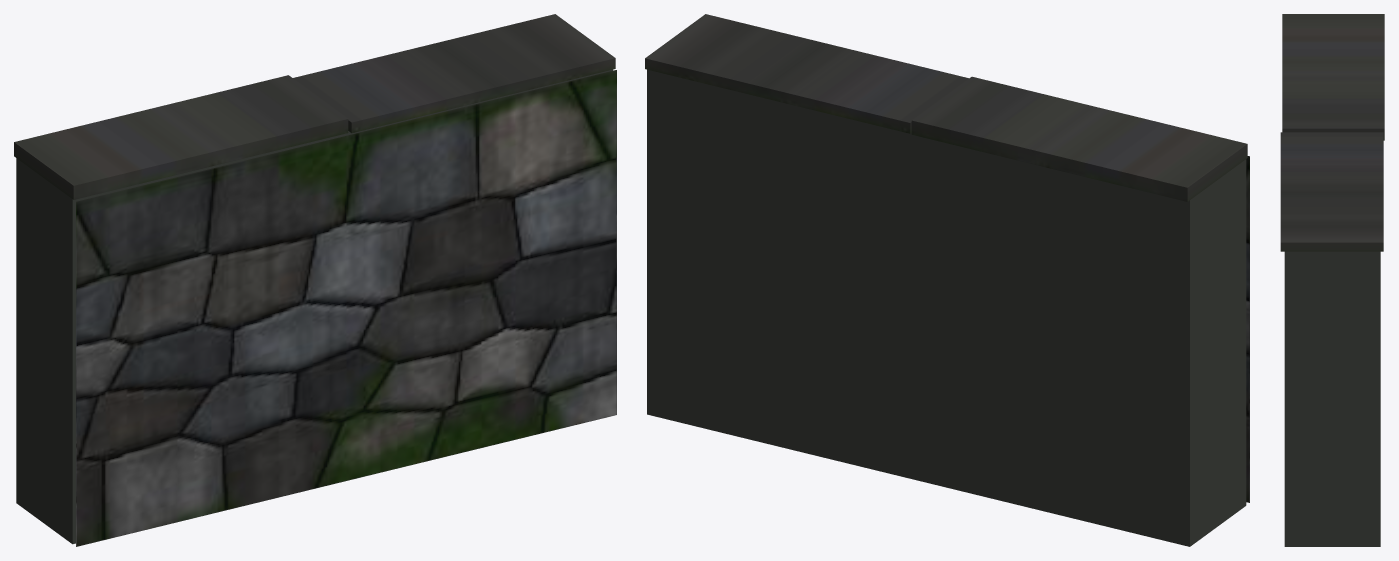
The model's file is stone-retaining-wall-b-lod.glb.
The picture shows the model from 3 angles, left to right: view 1: azimuth 30°, elevation 25°; view 2: azimuth 150°, elevation 25°; view 3: azimuth 270°, elevation 25°; orthographic projection. The views are drawn at different scales.
Parts seen in each view (by area): view 1: stone-retaining-wall-b; view 2: stone-retaining-wall-b; view 3: stone-retaining-wall-b.
Part boxes in pixels (x1,y1,x2,y2): stone-retaining-wall-b: (14, 14, 616, 546); stone-retaining-wall-b: (645, 14, 1249, 546); stone-retaining-wall-b: (1280, 14, 1384, 546).
Size of the model in its own units: 4 by 2.54 by 0.796.
2 materials, 1 textured.
